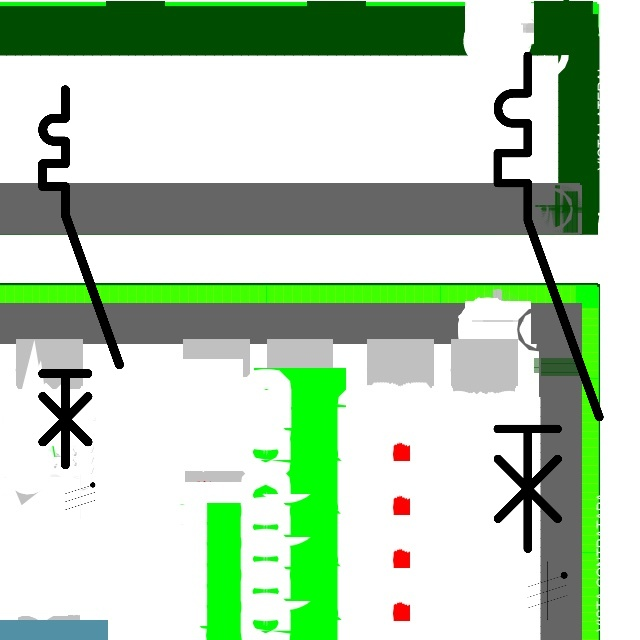interruptor_termomagnetico: (485, 43, 612, 561), (33, 80, 129, 474)
